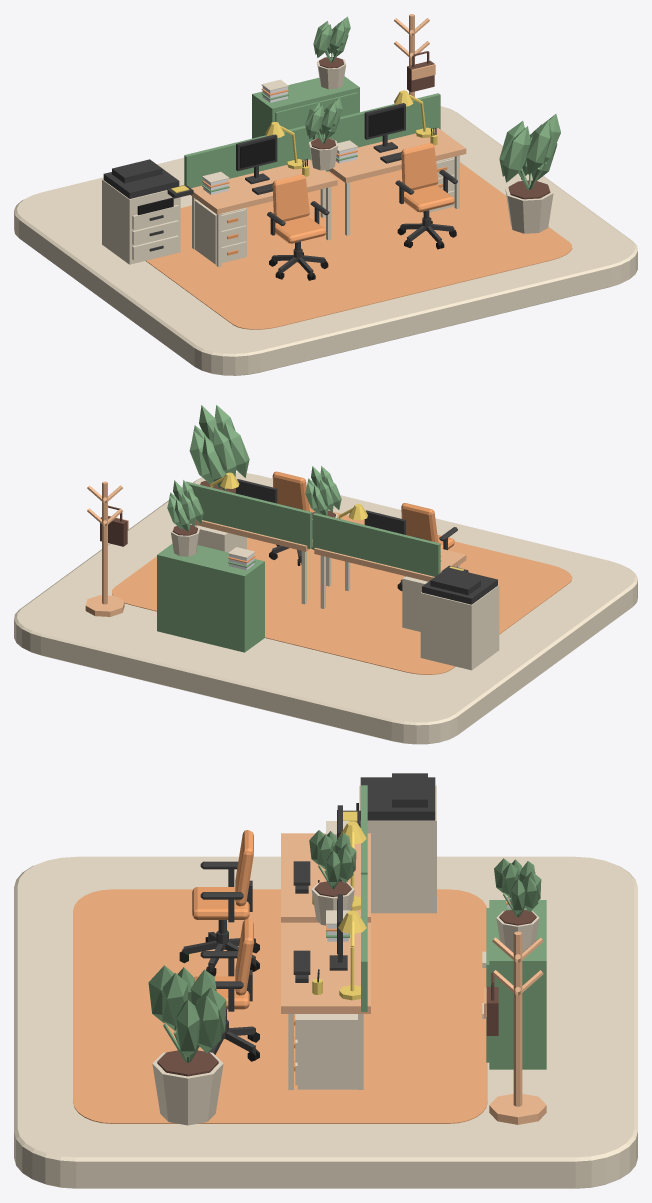
Rendered from office.fbx.
3 views of the same model, one above another, from view 1: azimuth 30°, elevation 25°; view 2: azimuth 150°, elevation 25°; view 3: azimuth 270°, elevation 25° (orthographic). The views are drawn at different scales.
Parts seen in each view (by area): view 1: AST-001-0, AST-002-0, AST-009-0, AST-010-2, AST-003-0, AST-003-1, AST-004-0, AST-004-1, AST-015-0, AST-013-0, AST-008-0, AST-013-1 (+9 smaller); view 2: AST-001-0, AST-002-0, AST-015-0, AST-009-0, AST-013-0, AST-013-1, AST-010-2, AST-010-1, AST-016-0, AST-004-0, AST-003-0, AST-010-0 (+8 smaller); view 3: AST-001-0, AST-002-0, AST-009-0, AST-010-2, AST-004-1, AST-015-0, AST-008-1, AST-003-0, AST-016-0, AST-004-0, AST-003-1, AST-010-1 (+7 smaller).
Boxes of the visible parts, x1=… form: AST-001-0: x1=14, y1=106, x2=637, y2=375; AST-002-0: x1=146, y1=162, x2=572, y2=329; AST-009-0: x1=102, y1=159, x2=193, y2=264; AST-010-2: x1=499, y1=114, x2=560, y2=233; AST-003-0: x1=267, y1=174, x2=329, y2=280; AST-003-1: x1=395, y1=143, x2=457, y2=249; AST-004-0: x1=190, y1=159, x2=337, y2=267; AST-004-1: x1=320, y1=128, x2=466, y2=235; AST-015-0: x1=252, y1=76, x2=359, y2=171; AST-013-0: x1=184, y1=125, x2=312, y2=187; AST-008-0: x1=194, y1=199, x2=246, y2=264; AST-013-1: x1=312, y1=93, x2=440, y2=147; AST-001-0: x1=14, y1=472, x2=637, y2=744; AST-002-0: x1=112, y1=511, x2=572, y2=674; AST-015-0: x1=157, y1=543, x2=264, y2=652; AST-009-0: x1=420, y1=565, x2=499, y2=670; AST-013-0: x1=312, y1=513, x2=440, y2=576; AST-013-1: x1=186, y1=481, x2=312, y2=548; AST-010-2: x1=189, y1=405, x2=249, y2=493; AST-010-1: x1=167, y1=480, x2=203, y2=556; AST-016-0: x1=85, y1=481, x2=124, y2=616; AST-004-0: x1=314, y1=547, x2=466, y2=608; AST-003-0: x1=397, y1=503, x2=457, y2=590; AST-010-0: x1=305, y1=466, x2=341, y2=538; AST-001-0: x1=14, y1=856, x2=637, y2=1188; AST-002-0: x1=73, y1=889, x2=487, y2=1123; AST-009-0: x1=343, y1=773, x2=436, y2=913; AST-010-2: x1=148, y1=965, x2=226, y2=1125; AST-004-1: x1=281, y1=922, x2=370, y2=1089; AST-015-0: x1=482, y1=900, x2=546, y2=1069; AST-008-1: x1=294, y1=1014, x2=357, y2=1089; AST-003-0: x1=179, y1=830, x2=259, y2=976; AST-016-0: x1=489, y1=931, x2=546, y2=1124; AST-004-0: x1=281, y1=833, x2=370, y2=922; AST-003-1: x1=194, y1=919, x2=259, y2=1061; AST-010-1: x1=494, y1=858, x2=541, y2=952.
Size of the model in its own units: 600 by 217 by 520.
